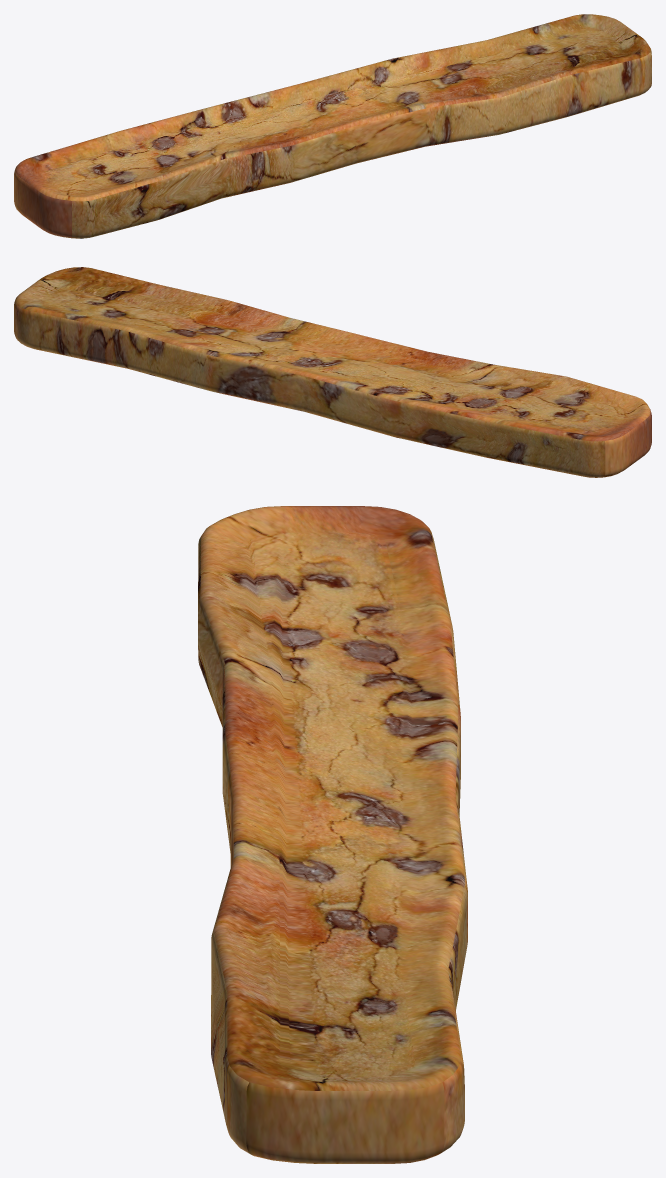
File: cookie.glb
The picture shows the model from 3 angles, top to bottom: view 1: azimuth 30°, elevation 25°; view 2: azimuth 150°, elevation 25°; view 3: azimuth 270°, elevation 25°; orthographic projection. The views are drawn at different scales.
Parts seen in each view (by area): view 1: Cube; view 2: Cube; view 3: Cube.
Boxes of the visible parts, x1,y1,x2,y2 form: Cube: (14, 14, 651, 238); Cube: (14, 267, 651, 477); Cube: (198, 506, 467, 1163).
Bounding box in the file's own units: 24 × 1.69 × 4.67.
1 material, 1 textured.
